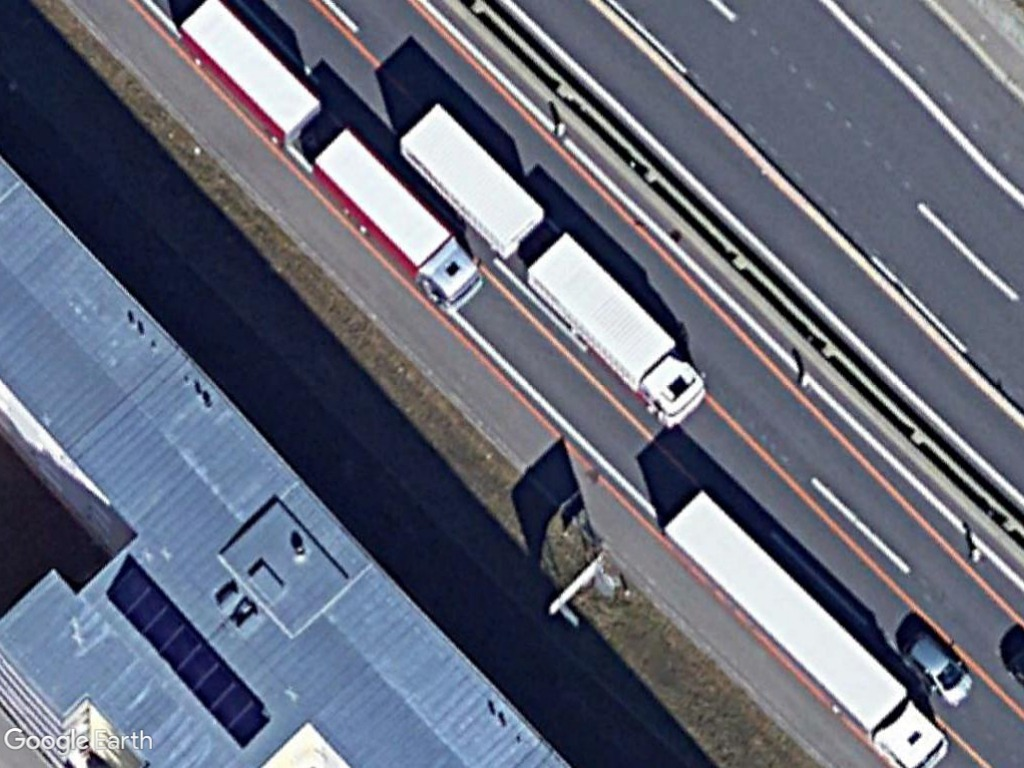car: (902, 630, 976, 711)
longvehicle: (659, 485, 949, 768)
truck: (531, 229, 710, 425), (317, 130, 487, 316)
